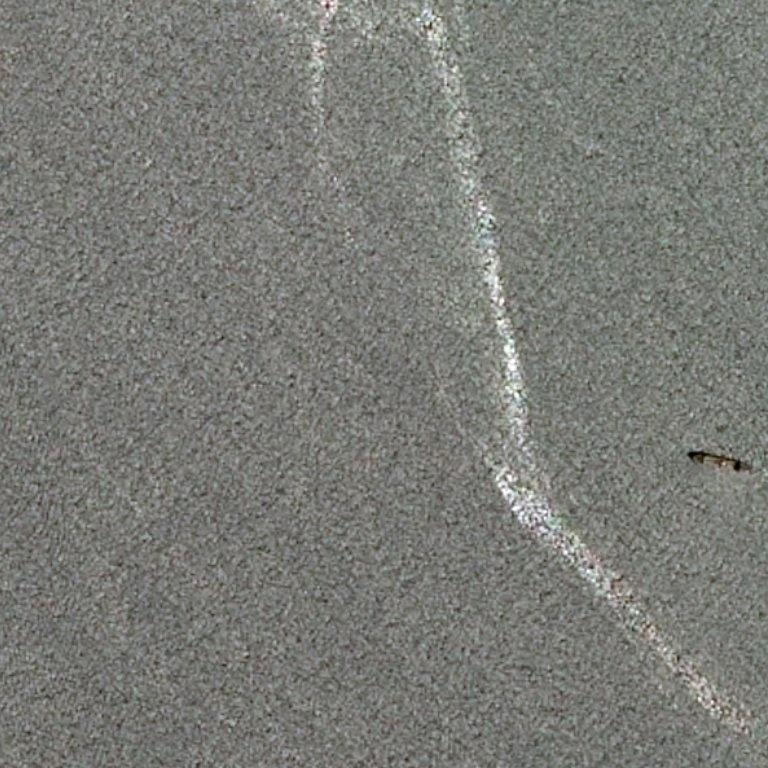ship: (689, 447, 746, 478), (690, 454, 693, 459), (740, 462, 743, 465), (736, 472, 739, 472)
